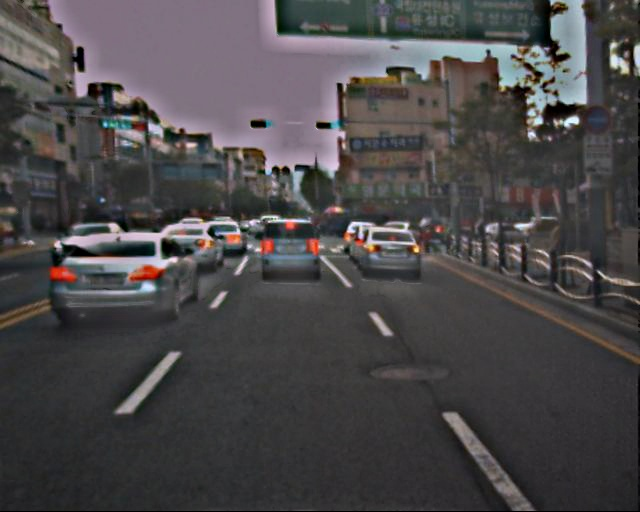person: (545, 217, 572, 283)
